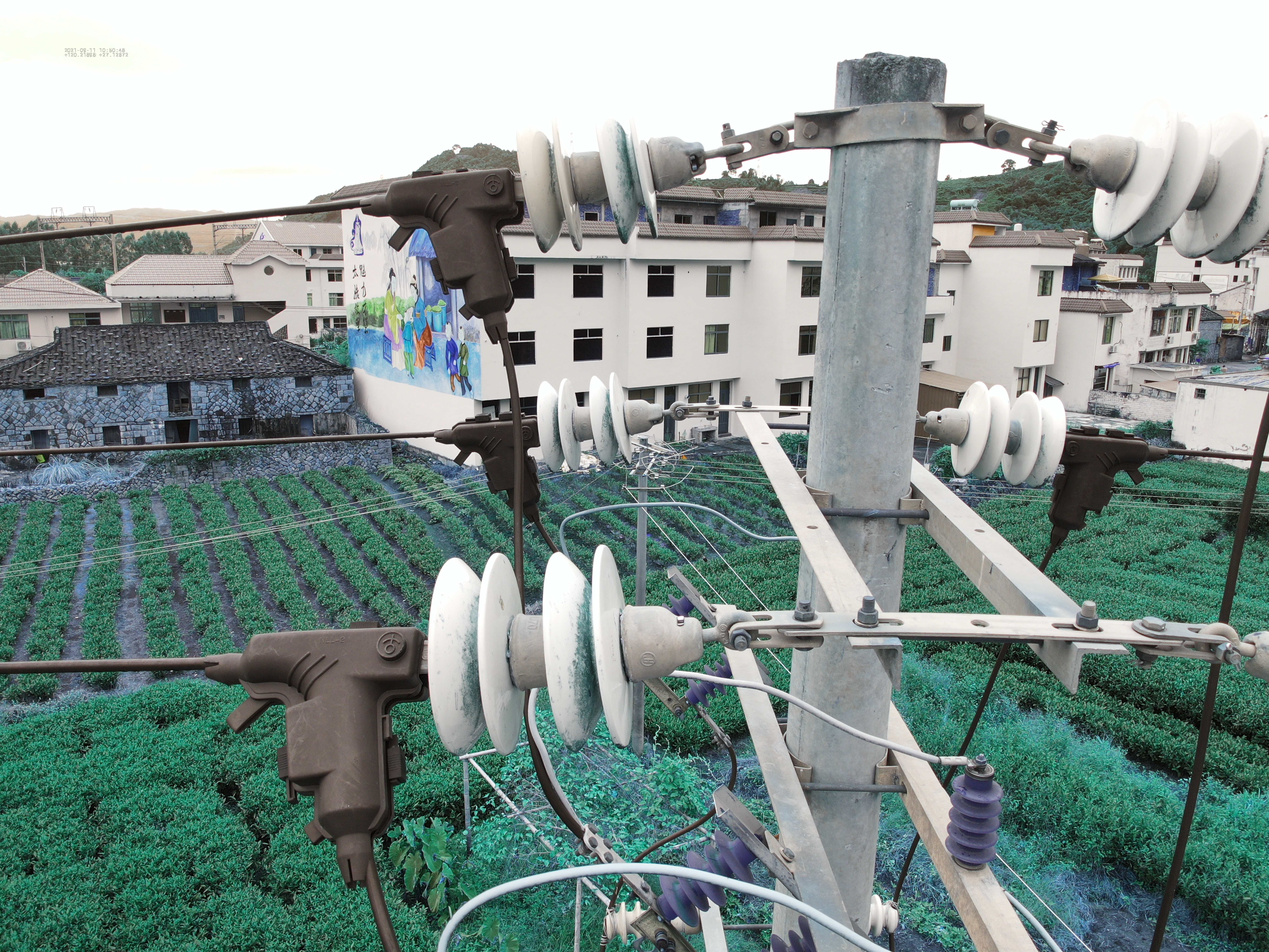severe_soiling_no_discharge_whole: (423, 535, 707, 760), (1060, 90, 1268, 265), (507, 105, 709, 263), (921, 378, 1067, 488), (536, 369, 665, 474)
